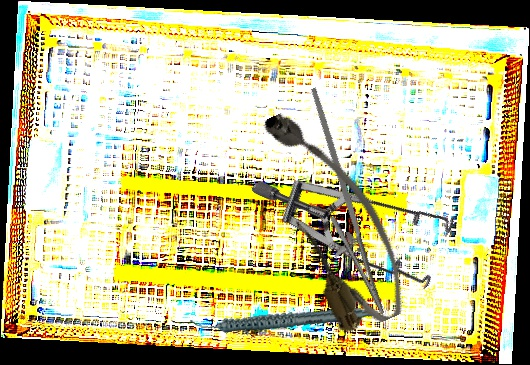Cannula: (248, 93, 420, 340)
Handpiece: (188, 281, 376, 356)
Needle Holder: (268, 86, 412, 323)
Speculum: (250, 100, 479, 336)
